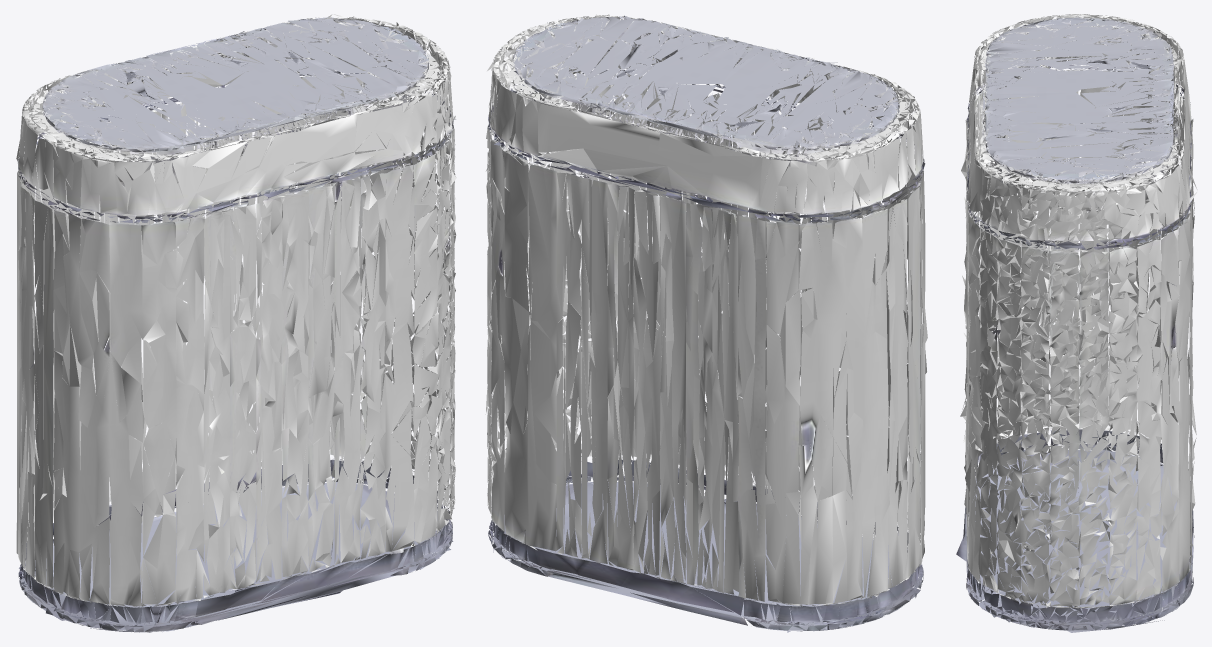
The model's file is mk2-dustbin.glb.
3 renders of one model, left to right at view 1: azimuth 30°, elevation 25°; view 2: azimuth 150°, elevation 25°; view 3: azimuth 270°, elevation 25°, orthographic. The views are drawn at different scales.
Parts seen in each view (by area): view 1: mesh_node; view 2: mesh_node; view 3: mesh_node.
Part boxes in pixels (x1=…): mesh_node: x1=16, y1=14, x2=456, y2=632; mesh_node: x1=485, y1=14, x2=927, y2=632; mesh_node: x1=956, y1=14, x2=1197, y2=632.
Size of the model in its own units: 1.71 by 1.93 by 0.9414.
Materials: 1 (1 with a texture image).
